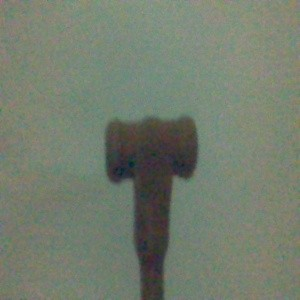palu: (104, 114, 198, 300)
